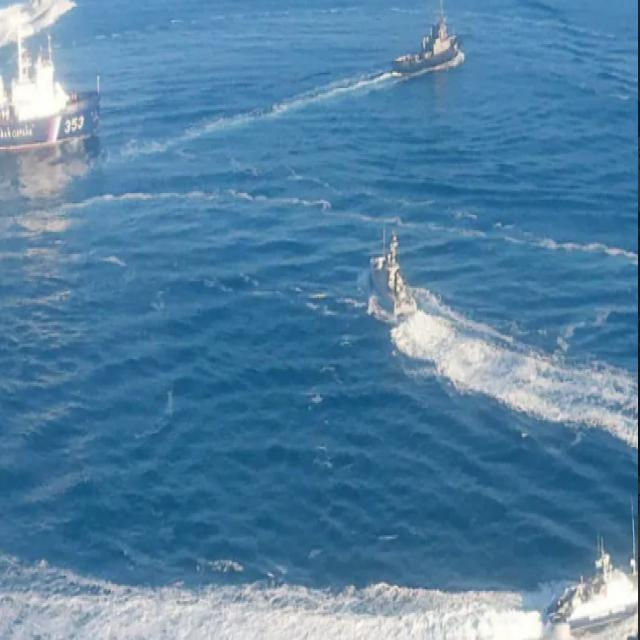navalvessels: (0, 22, 109, 161), (531, 534, 640, 638), (357, 227, 416, 333), (392, 13, 466, 88)
